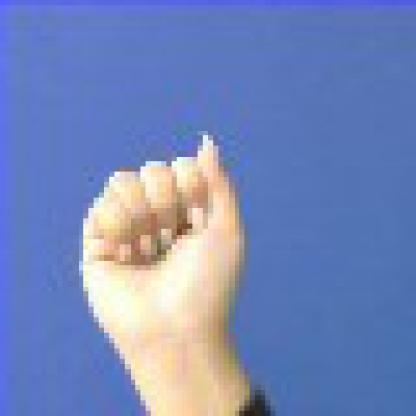zero: (35, 116, 298, 386)
